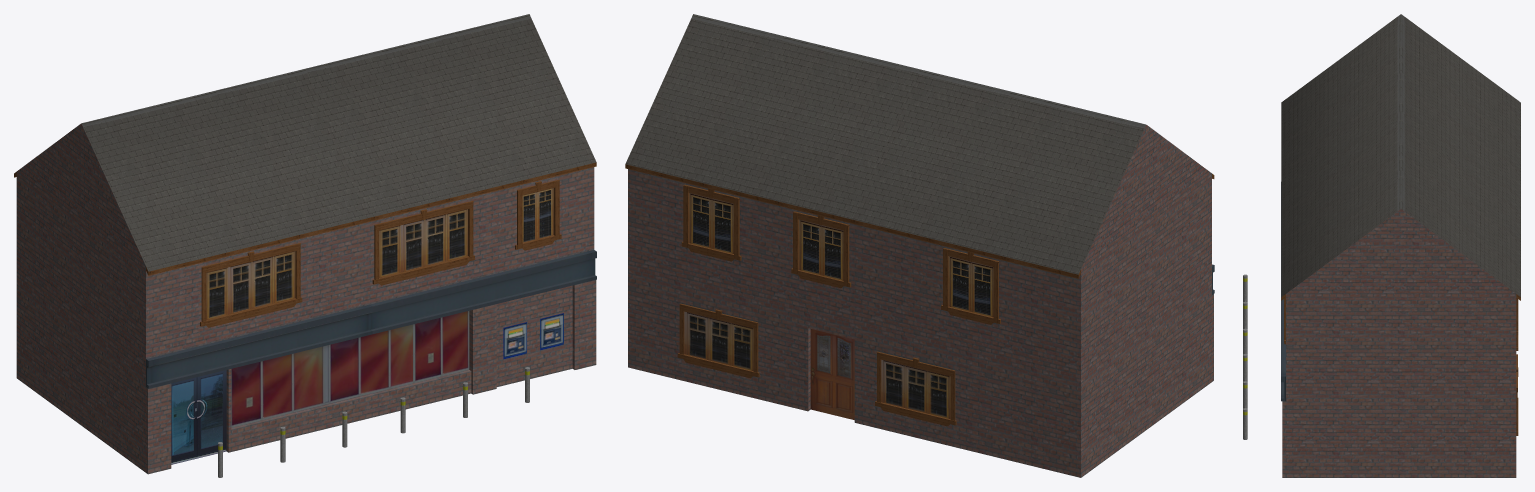
Rendered from ukcommercialfood12.FBX.
3 renders of one model, left to right at view 1: azimuth 30°, elevation 25°; view 2: azimuth 150°, elevation 25°; view 3: azimuth 270°, elevation 25°, orthographic. The views are drawn at different scales.
Visible parts, largest first — view 1: Box002; view 2: Box002; view 3: Box002.
Part boxes in pixels (left/top/right/bottom): Box002: left=14, top=14, right=596, bottom=477; Box002: left=625, top=14, right=1214, bottom=477; Box002: left=1243, top=14, right=1520, bottom=477.
Bounding box in the file's own units: 1600 × 1031 × 964.
